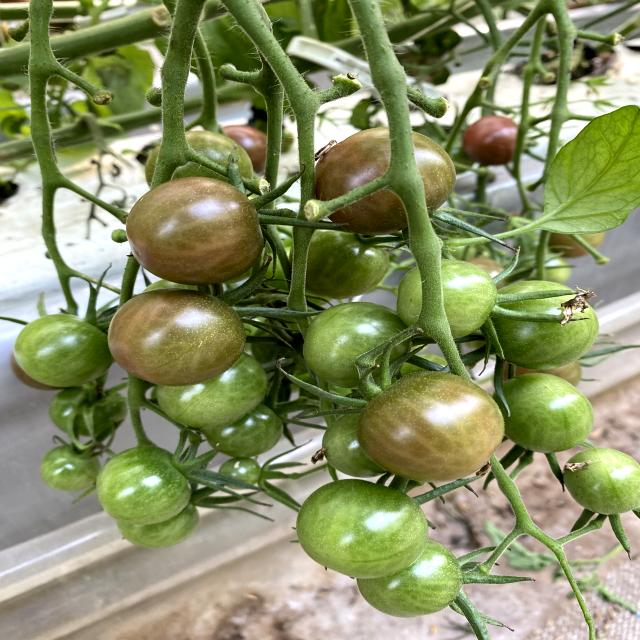ripe0: (294, 477, 430, 580), (498, 279, 601, 371), (303, 302, 411, 381), (14, 313, 113, 389), (98, 446, 193, 524), (356, 551, 462, 618), (506, 373, 593, 451), (565, 449, 640, 515), (210, 405, 283, 456), (41, 443, 99, 492), (219, 457, 263, 491)
ripe1: (364, 372, 505, 484), (123, 177, 265, 284), (317, 126, 455, 227), (109, 287, 244, 384), (461, 116, 522, 166)
